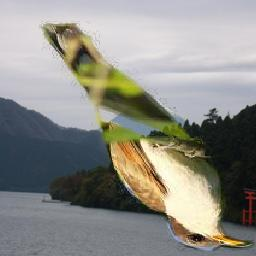Cuckoo: (39, 19, 255, 253)
